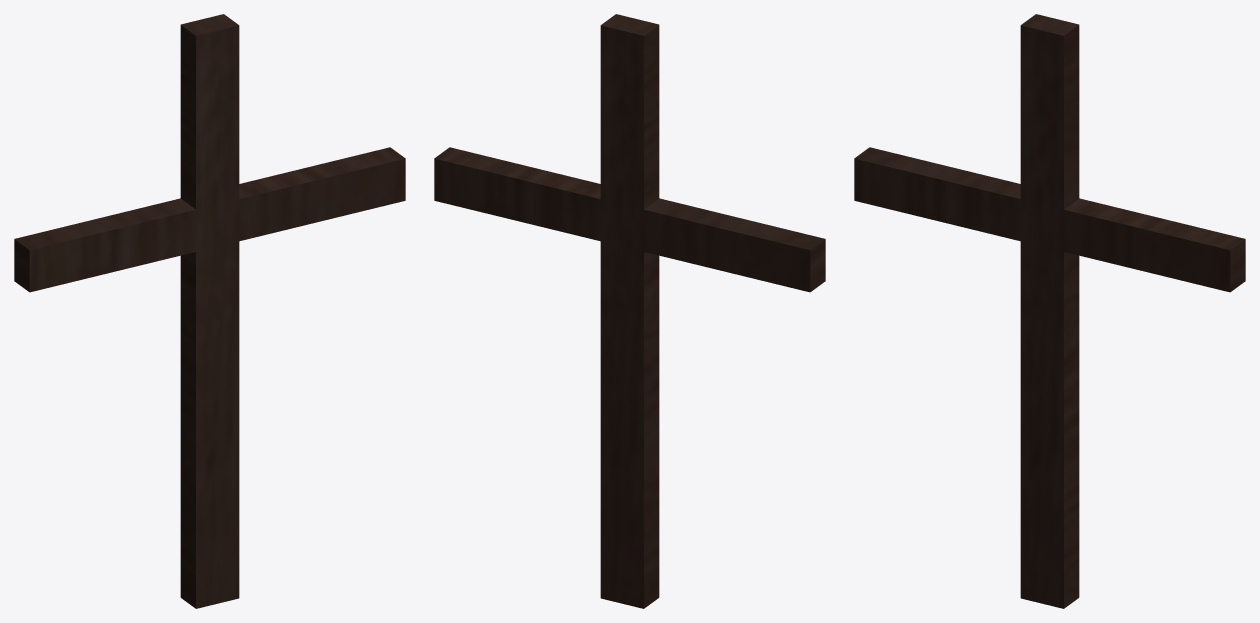
The model's file is crucifijo.FBX.
3 renders of one model, left to right at view 1: azimuth 30°, elevation 25°; view 2: azimuth 150°, elevation 25°; view 3: azimuth 330°, elevation 25°, orthographic.
Visible parts, largest first — view 1: crucifijo; view 2: crucifijo; view 3: crucifijo.
Boxes of the visible parts, x1=… form: crucifijo: x1=14, y1=14, x2=405, y2=608; crucifijo: x1=434, y1=14, x2=825, y2=608; crucifijo: x1=854, y1=14, x2=1245, y2=608.
Size of the model in its own units: 11.02 by 16.05 by 0.7874.
